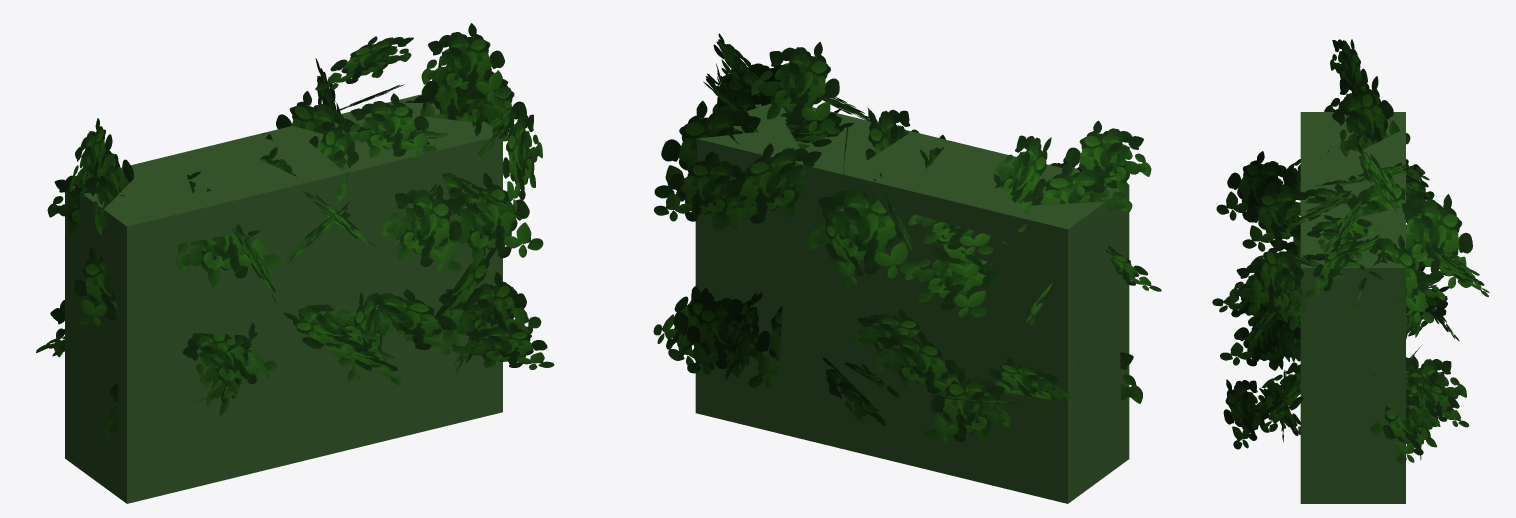
The model's file is getkong-hhhecke1.glb.
The picture shows the model from 3 angles, left to right: view 1: azimuth 30°, elevation 25°; view 2: azimuth 150°, elevation 25°; view 3: azimuth 270°, elevation 25°; orthographic projection. The views are drawn at different scales.
Parts seen in each view (by area): view 1: hecke1; view 2: hecke1; view 3: hecke1.
Part boxes in pixels (<box>): hecke1: <box>36,23,554,503</box>; hecke1: <box>653,33,1161,503</box>; hecke1: <box>1212,39,1489,503</box>.
Size of the model in its own units: 2.94 by 2.04 by 1.73.
2 materials, 1 textured.
